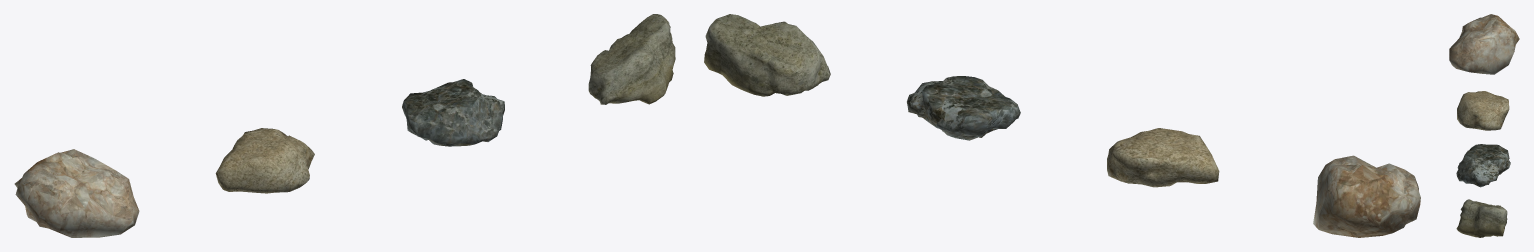
The model's file is namaqualand_rocks_01.glb.
3 renders of one model, left to right at view 1: azimuth 30°, elevation 25°; view 2: azimuth 150°, elevation 25°; view 3: azimuth 270°, elevation 25°, orthographic. The views are drawn at different scales.
Visible parts, largest first — view 1: namaqualand_rocks_02_a, namaqualand_rocks_02_d, namaqualand_rocks_02_c, namaqualand_rocks_02_b; view 2: namaqualand_rocks_02_d, namaqualand_rocks_02_a, namaqualand_rocks_02_b, namaqualand_rocks_02_c; view 3: namaqualand_rocks_02_a, namaqualand_rocks_02_c, namaqualand_rocks_02_b, namaqualand_rocks_02_d.
Part boxes in pixels (x1,y1,x2,y2): namaqualand_rocks_02_a: (14,149,139,237); namaqualand_rocks_02_d: (588,14,675,104); namaqualand_rocks_02_c: (402,79,504,146); namaqualand_rocks_02_b: (215,128,314,193); namaqualand_rocks_02_d: (704,14,830,96); namaqualand_rocks_02_a: (1313,155,1420,237); namaqualand_rocks_02_b: (1107,128,1219,187); namaqualand_rocks_02_c: (907,76,1020,140); namaqualand_rocks_02_a: (1449,14,1519,74); namaqualand_rocks_02_c: (1456,144,1510,187); namaqualand_rocks_02_b: (1457,91,1509,130); namaqualand_rocks_02_d: (1456,199,1507,237).
Bounding box in the file's own units: 1.45 × 0.1467 × 0.216.
Materials: 1 (1 with a texture image).
